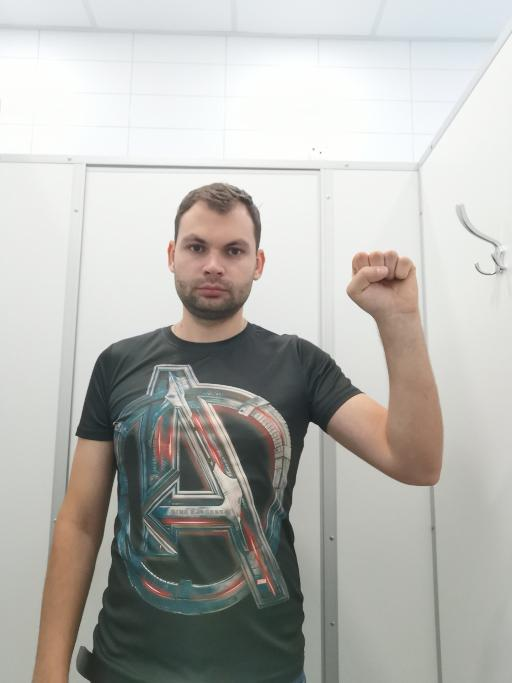fist: (344, 247, 421, 323)
